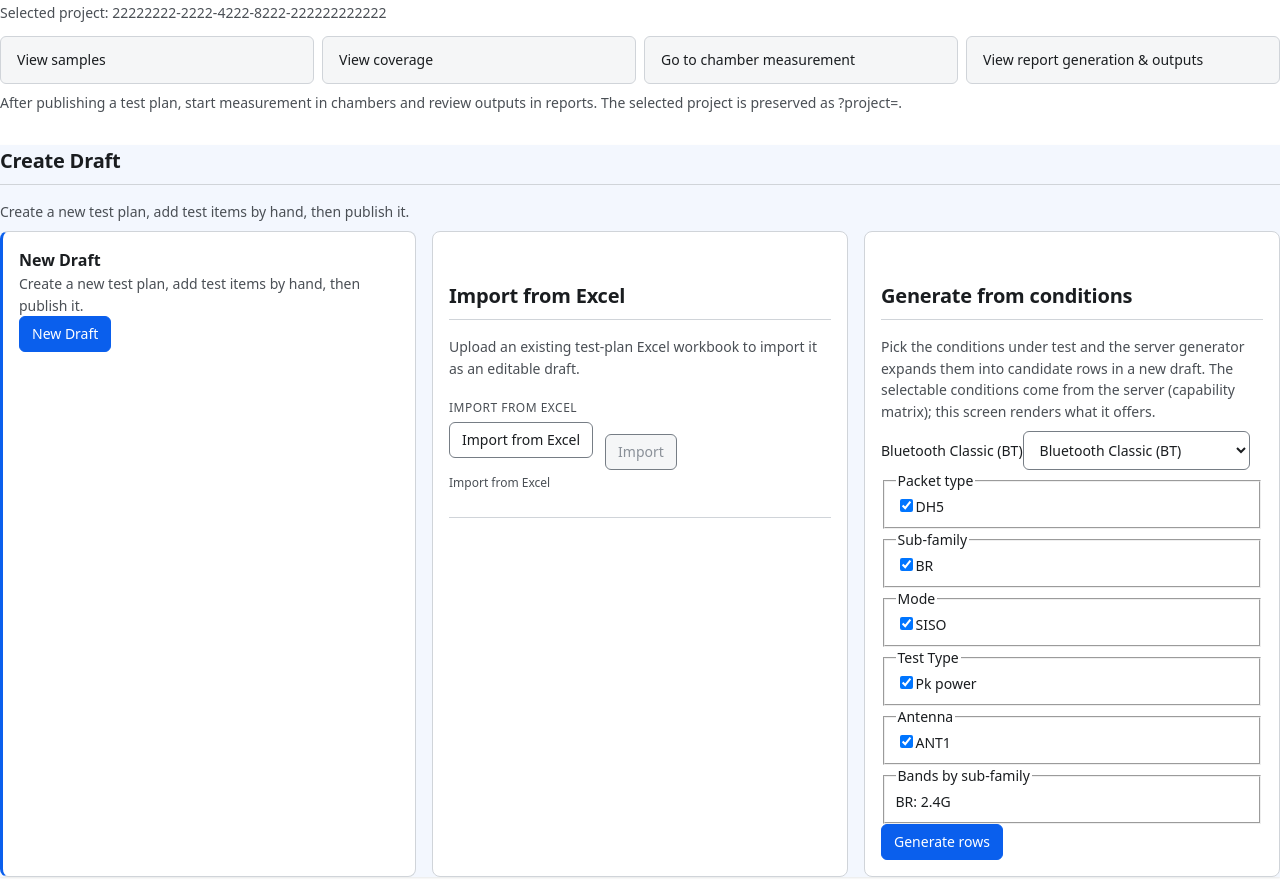
Scenario: current generation API cutover › renders WLAN stages and main-test fields with distinct locale keys
(page scrolled)
Expected: the form with test id "test-plans-generator-form" is shown, [881,431,1263,860]
Select "WLAN standard" in the dropdown with test id "test-plans-generator-technology": (1136, 450) [1023,431,1250,470]
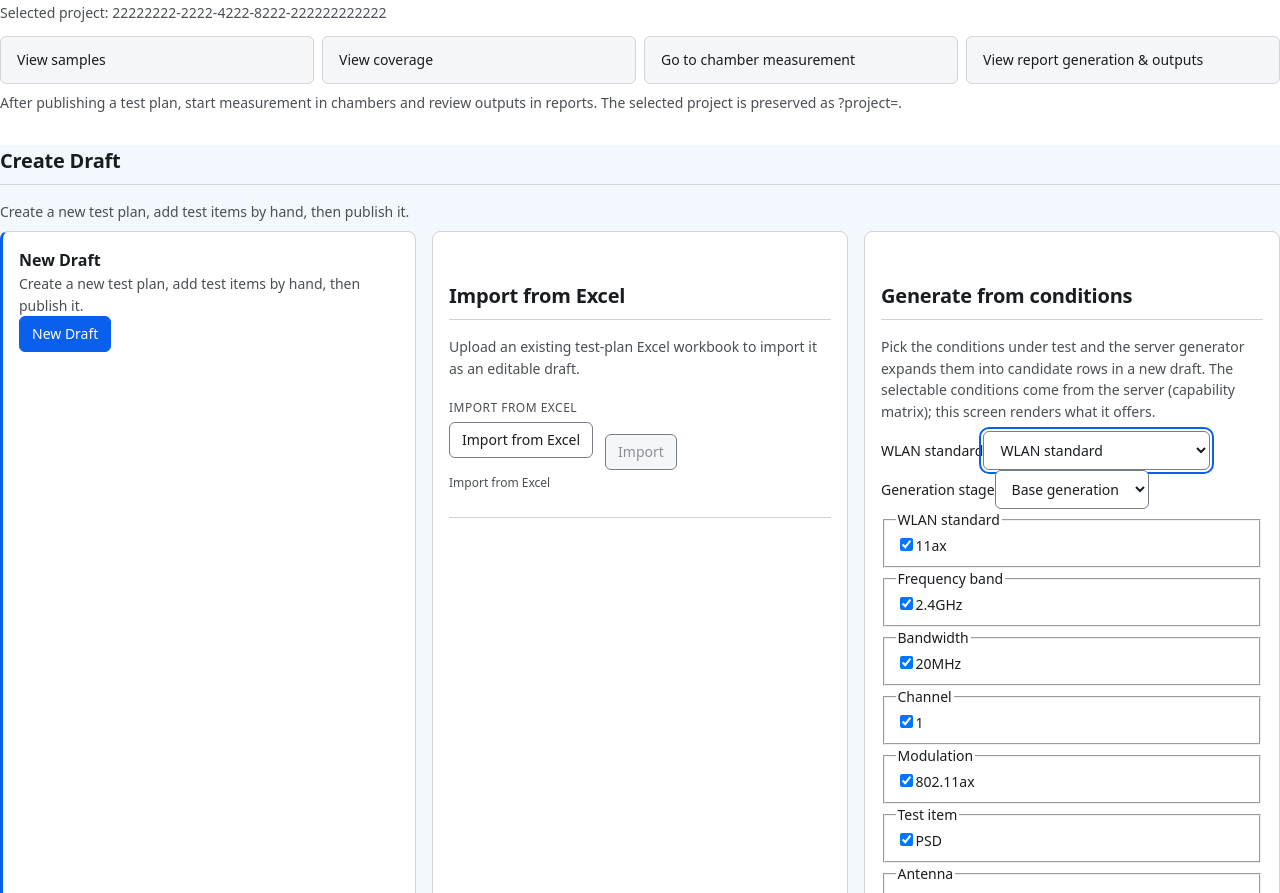
Now the text "Generation stage" is shown, box [881,480,1148,499]
Now the label with test id "test-plans-generator-stage" reads "Generation stage", box [881,480,994,499]
Select "Main test" in the dropdown with test id "test-plans-generator-stage": (1072, 489) [994,470,1148,509]
(page scrolled)
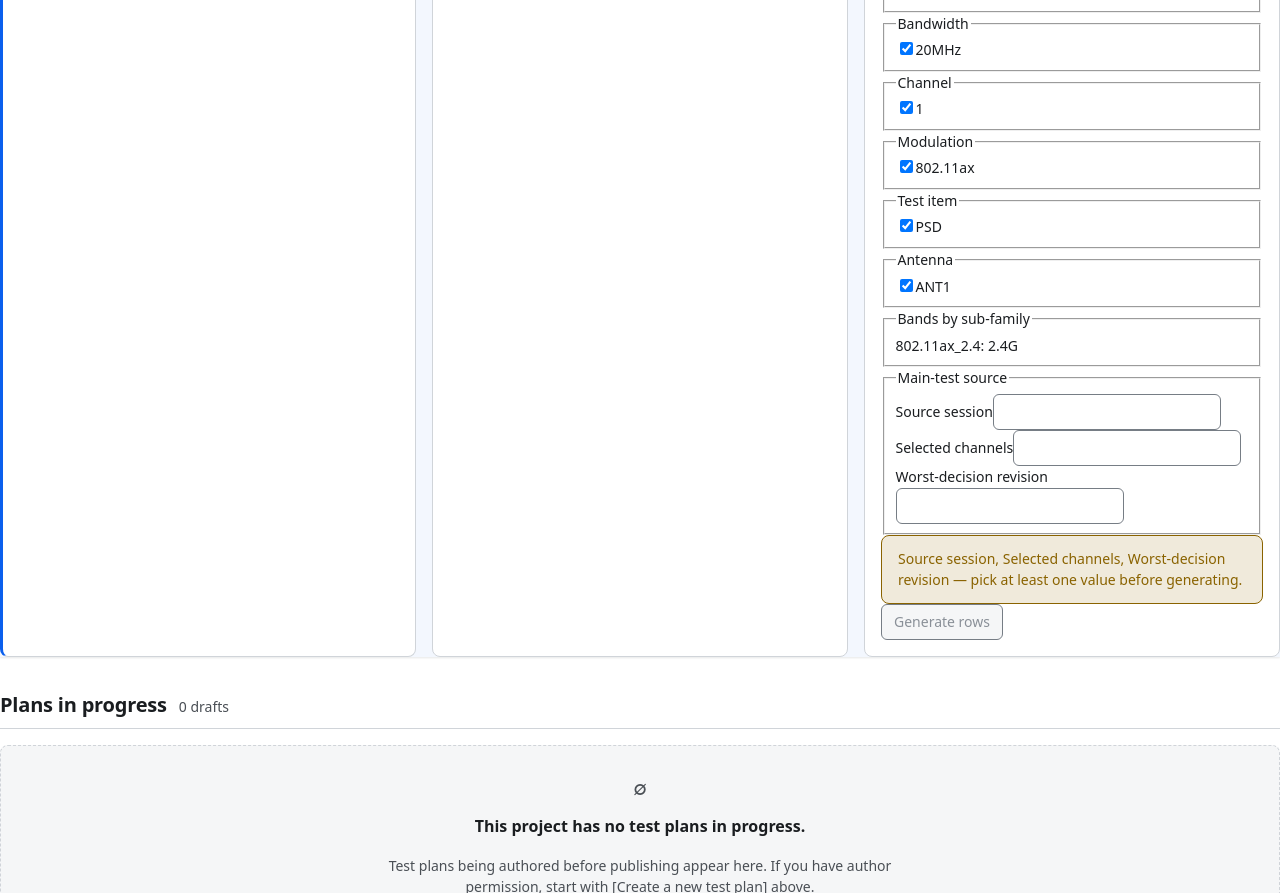
Now the element with test id "test-plans-generator-main-source" shows "Main-test source", box [898,368,1007,387]
Now the text "Source session" is shown, box [896,402,993,420]
Now the text "Selected channels" is shown, box [896,438,1013,457]
